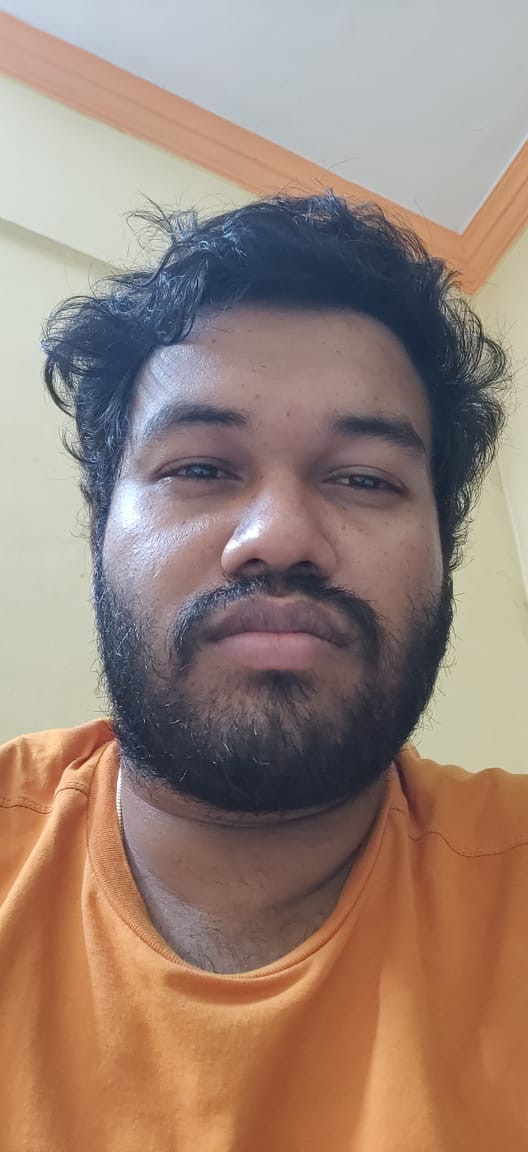Half Asleep: (121, 425, 428, 520)
